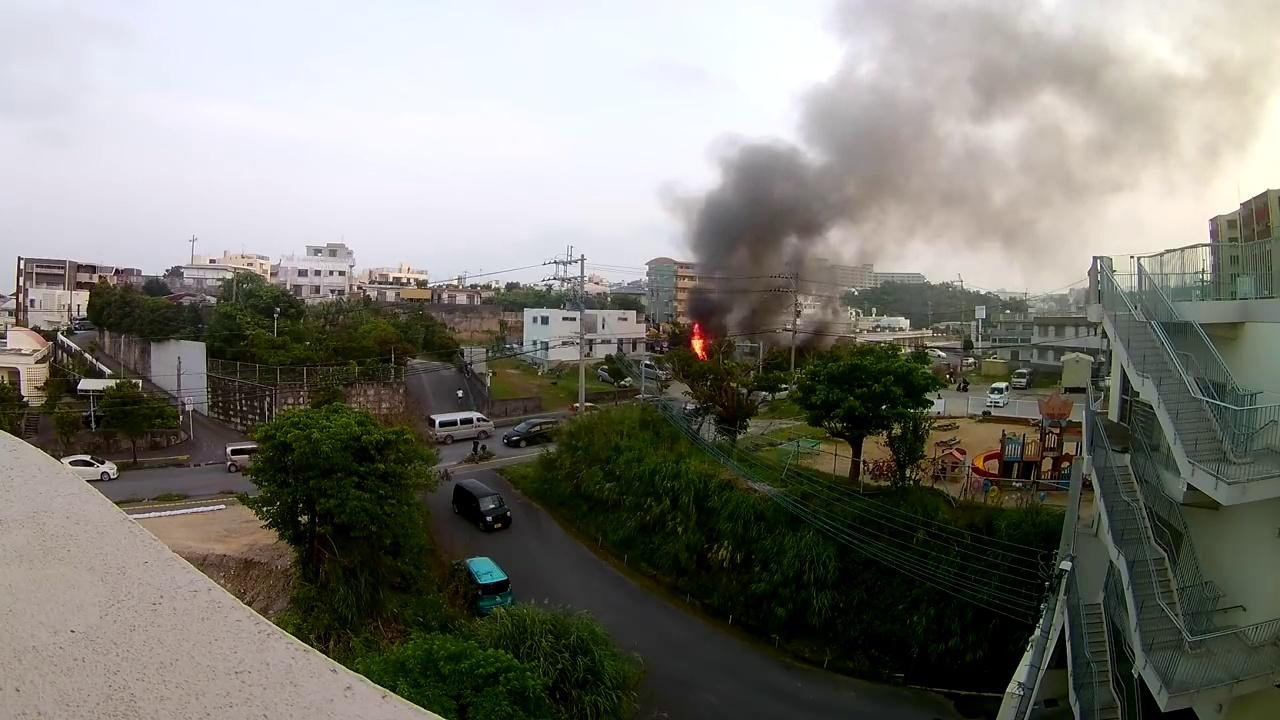fire: (687, 323, 715, 362)
